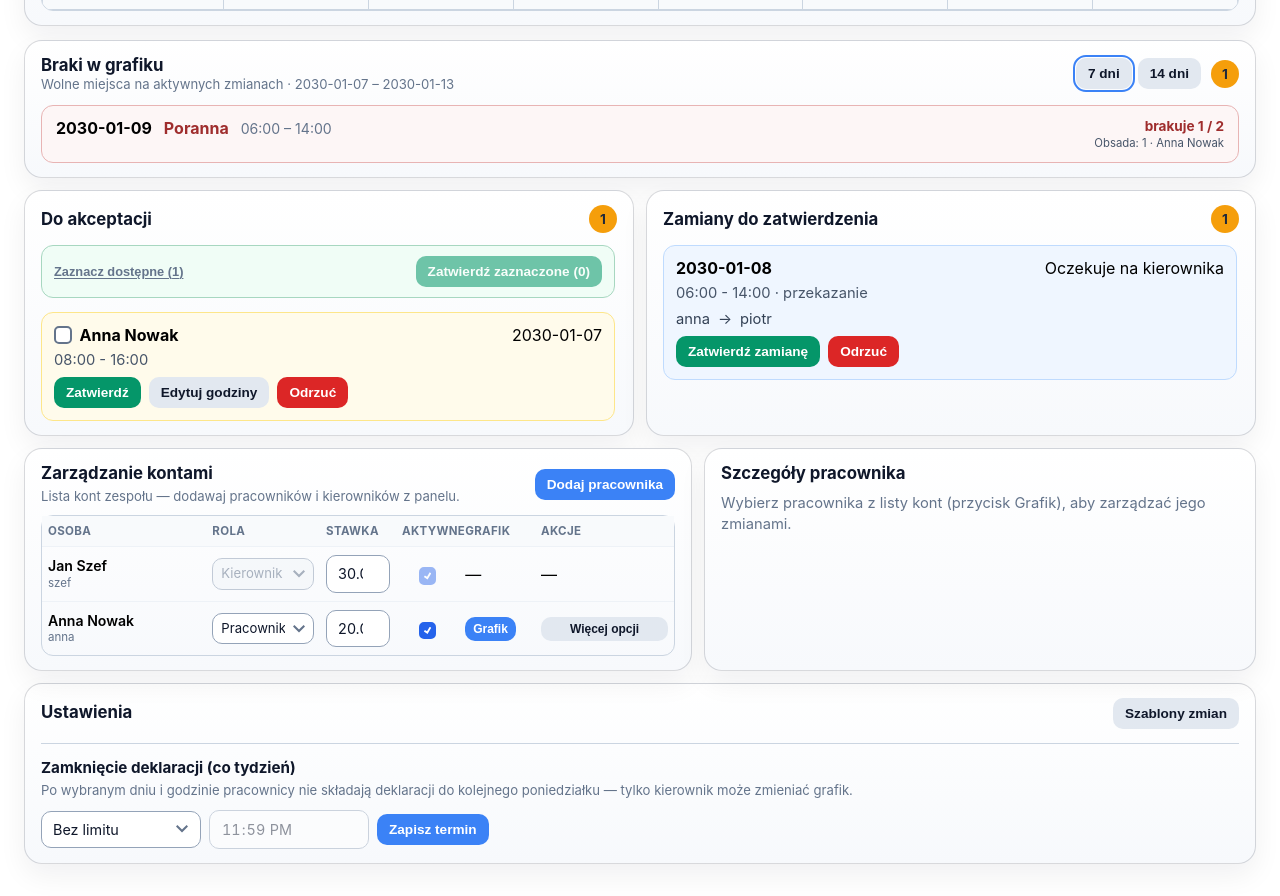
Scenario: saving the weekly declaration deadline
(page scrolled)
Expected: the text "Anna Nowak" below "Do akceptacji" is shown, x1=80 y1=325 x2=178 y2=345
Step 1. Select "Sobota" in the dropdown named "Dzień tygodnia zamknięcia" → {"x": 121, "y": 829}, box x1=41 y1=811 x2=201 y2=848
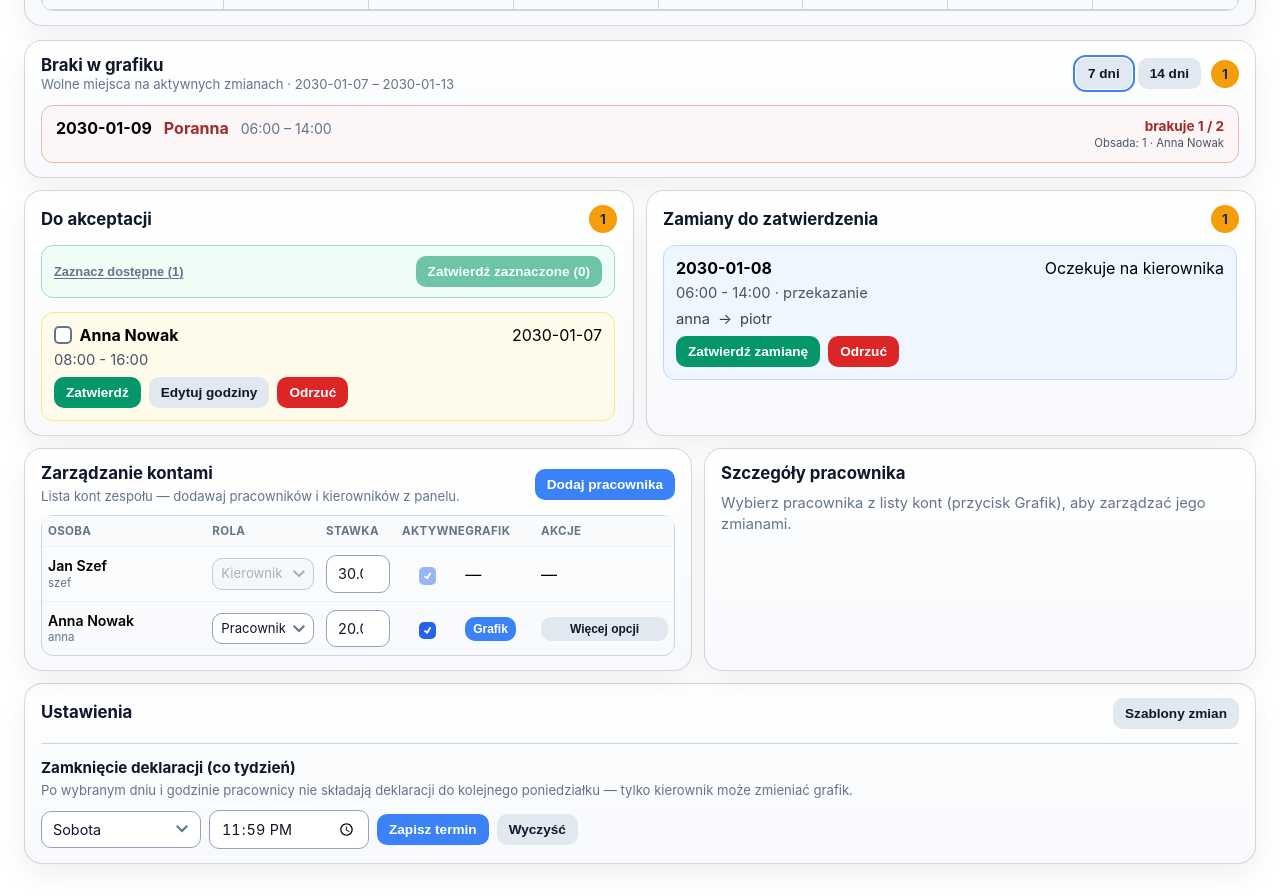
Step 2. Click the button "Zapisz termin" → {"x": 433, "y": 829}, box x1=377 y1=814 x2=489 y2=845
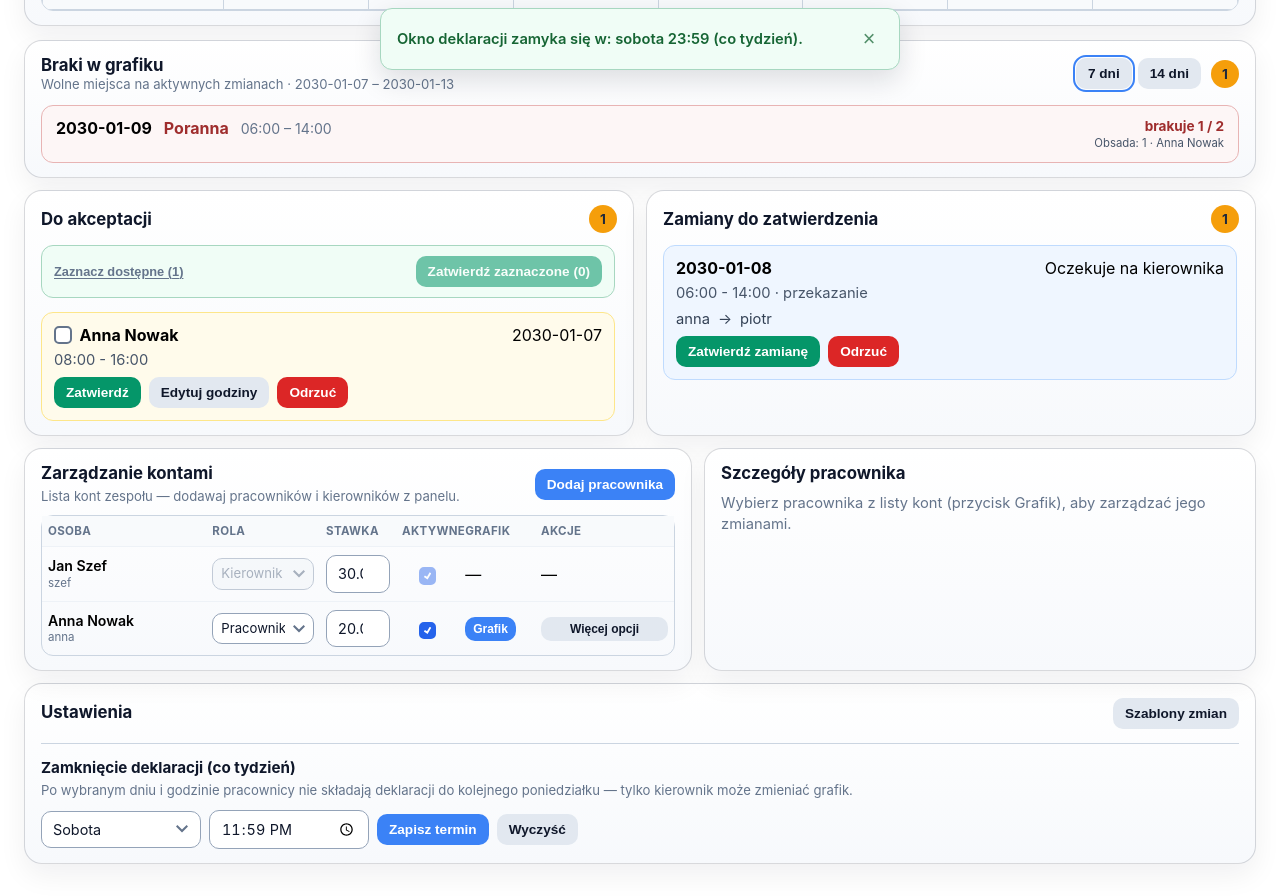
Now the text "Okno deklaracji zamyka się w: sobota 23:59 (co tydzień)." is shown, box x1=397 y1=25 x2=843 y2=53
